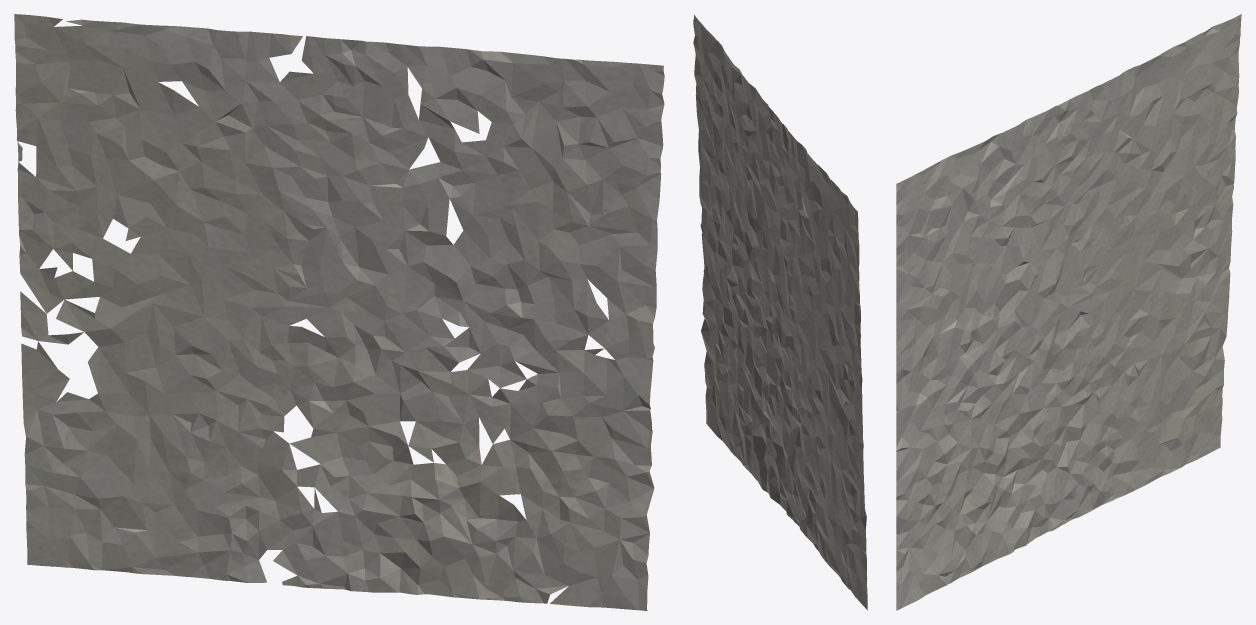
3 views of the same model, side by side, from view 1: azimuth 30°, elevation 25°; view 2: azimuth 150°, elevation 25°; view 3: azimuth 270°, elevation 25° (orthographic). The views are drawn at different scales.
Size of the model in its own units: 0.7043 by 0.8374 by 0.6043.
Materials: 3 (3 with a texture image).
